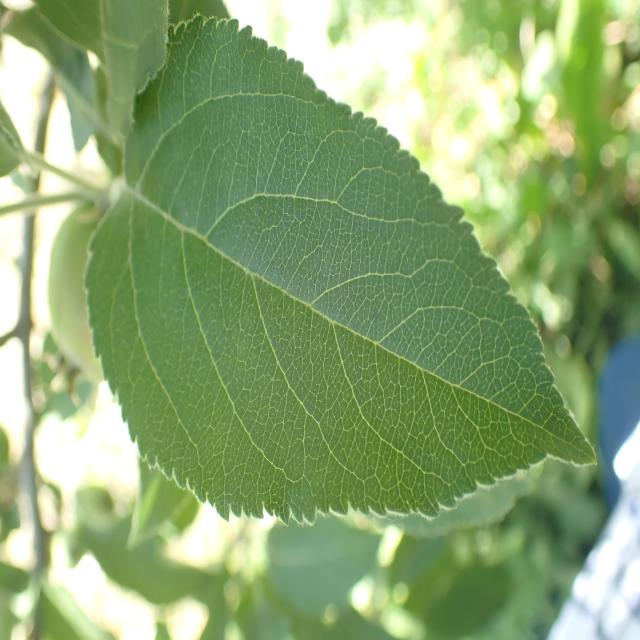healthy: (84, 12, 596, 529)
